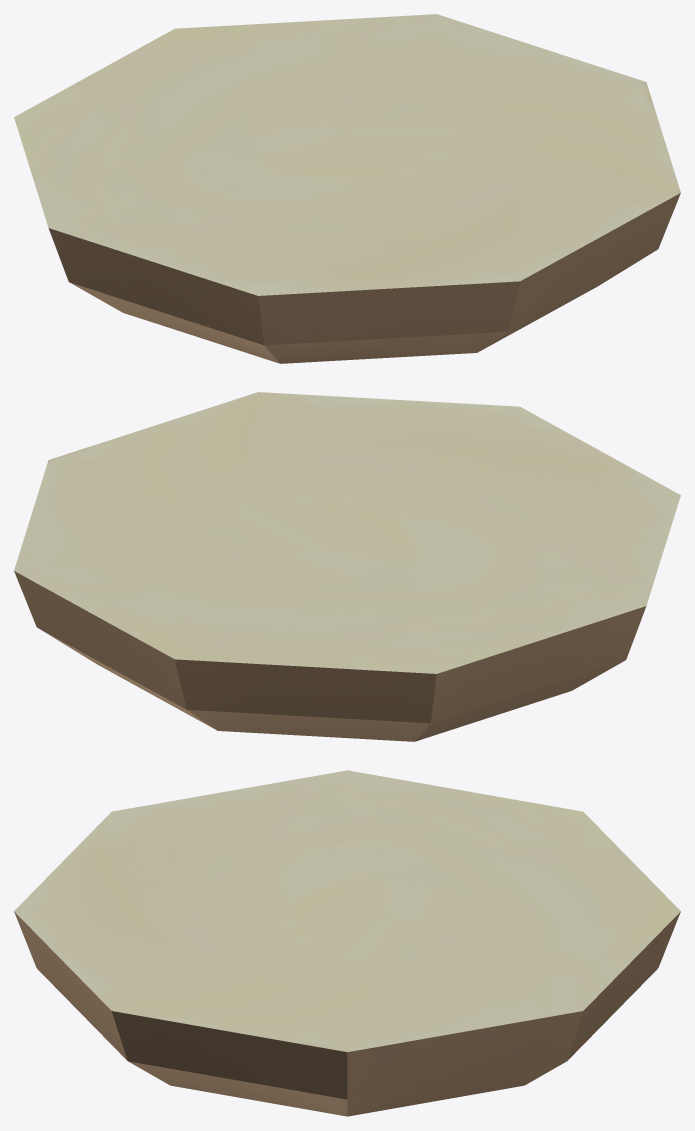
File: ING_burgerBun_BotV01.fbx
3 renders of one model, top to bottom at view 1: azimuth 30°, elevation 25°; view 2: azimuth 150°, elevation 25°; view 3: azimuth 270°, elevation 25°, orthographic. The views are drawn at different scales.
Parts seen in each view (by area): view 1: bun_bot; view 2: bun_bot; view 3: bun_bot.
Boxes of the visible parts, x1,y1,x2,y2 form: bun_bot: [14, 14, 680, 363]; bun_bot: [14, 392, 680, 741]; bun_bot: [14, 770, 680, 1116].
Bounding box in the file's own units: 30.08 × 6.19 × 30.08.
